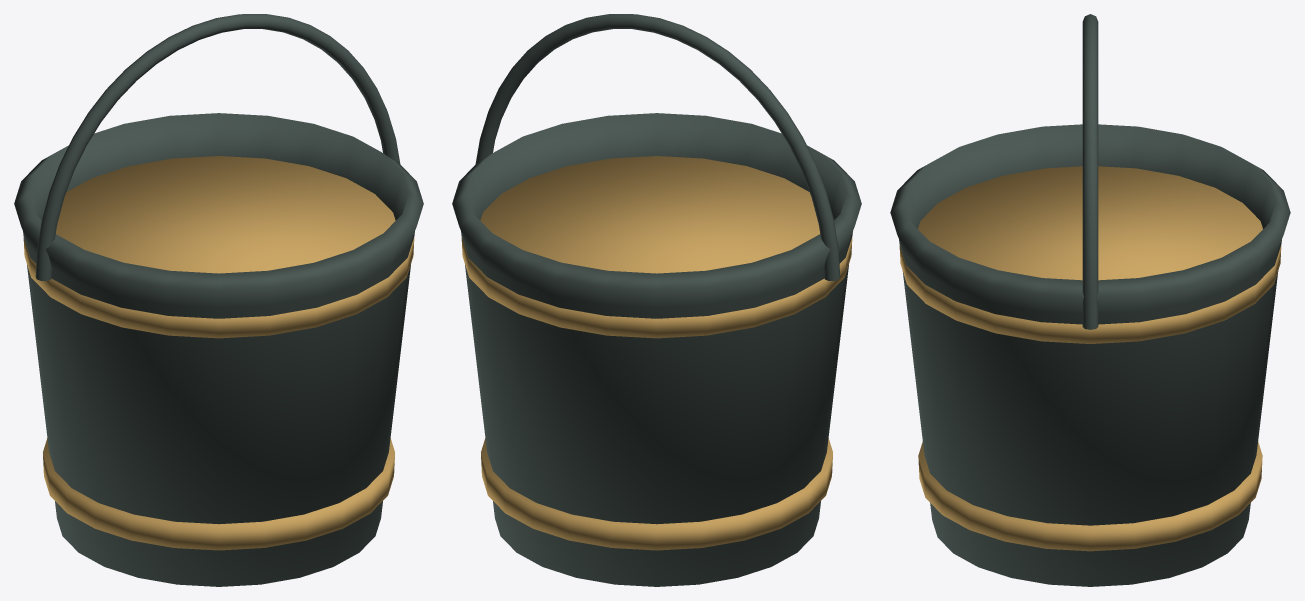
Rendered from fishing-bucket.glb.
3 views of the same model, side by side, from view 1: azimuth 30°, elevation 25°; view 2: azimuth 150°, elevation 25°; view 3: azimuth 270°, elevation 25° (orthographic). The views are drawn at different scales.
Visible parts, largest first — view 1: bucket.001, bucket band.003, bucket band.002, bucket handle.001; view 2: bucket.001, bucket band.003, bucket band.002, bucket handle.001; view 3: bucket.001, bucket band.003, bucket band.002, bucket handle.001.
Part boxes in pixels (box(x1,y1,x2,y2)): bucket.001: box(14, 113, 423, 586); bucket band.003: box(23, 156, 414, 338); bucket band.002: box(43, 438, 394, 550); bucket handle.001: box(35, 14, 400, 280); bucket.001: box(452, 113, 861, 586); bucket band.003: box(461, 156, 852, 338); bucket band.002: box(481, 438, 832, 550); bucket handle.001: box(475, 14, 840, 280); bucket.001: box(890, 124, 1290, 586); bucket band.003: box(899, 166, 1281, 343); bucket band.002: box(918, 441, 1262, 551); bucket handle.001: box(1082, 14, 1098, 329).
Bounding box in the file's own units: 0.364 × 0.477 × 0.354.
